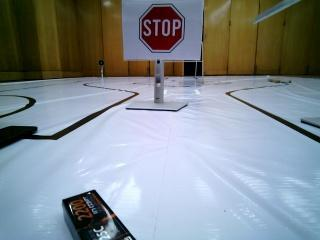stop: (128, 3, 194, 56)
